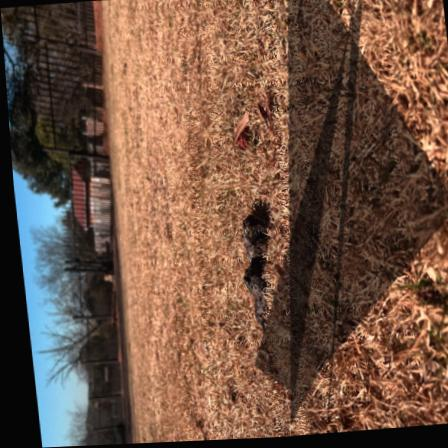dog-poop: (226, 218, 271, 321)
